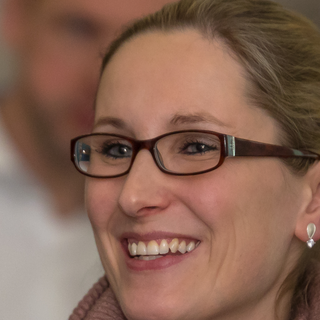eye: (177, 138, 220, 162), (94, 139, 136, 163)
